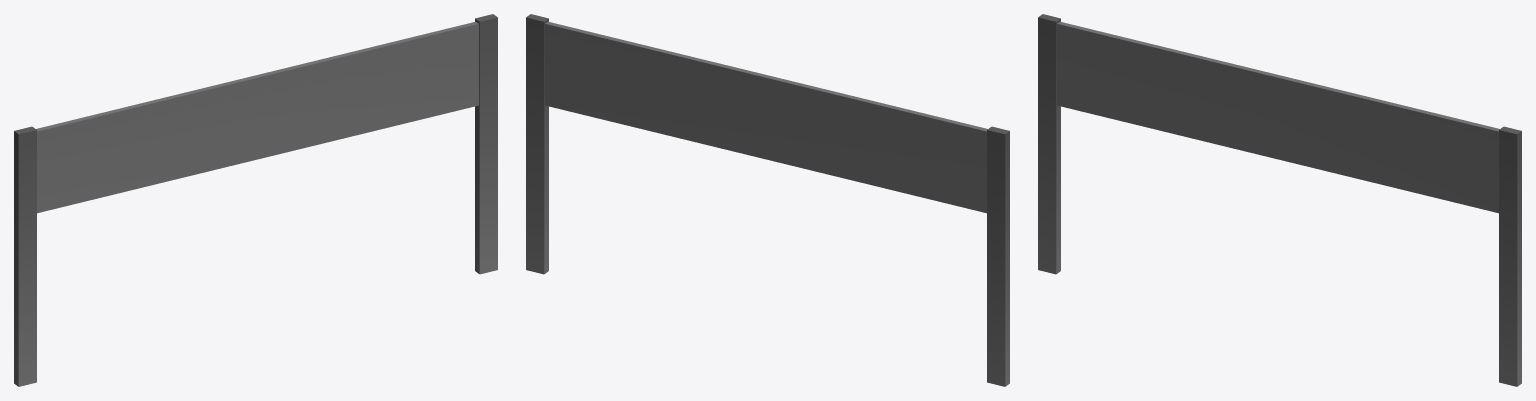
Rendered from Sign.fbx.
The picture shows the model from 3 angles, left to right: view 1: azimuth 30°, elevation 25°; view 2: azimuth 150°, elevation 25°; view 3: azimuth 330°, elevation 25°; orthographic projection.
Parts seen in each view (by area): view 1: Sign; view 2: Sign; view 3: Sign.
Part boxes in pixels (left/top/right/bottom): Sign: left=14, top=14, right=497, bottom=386; Sign: left=526, top=14, right=1009, bottom=386; Sign: left=1038, top=14, right=1521, bottom=386.
Bounding box in the file's own units: 147 × 74.22 × 2.52.
